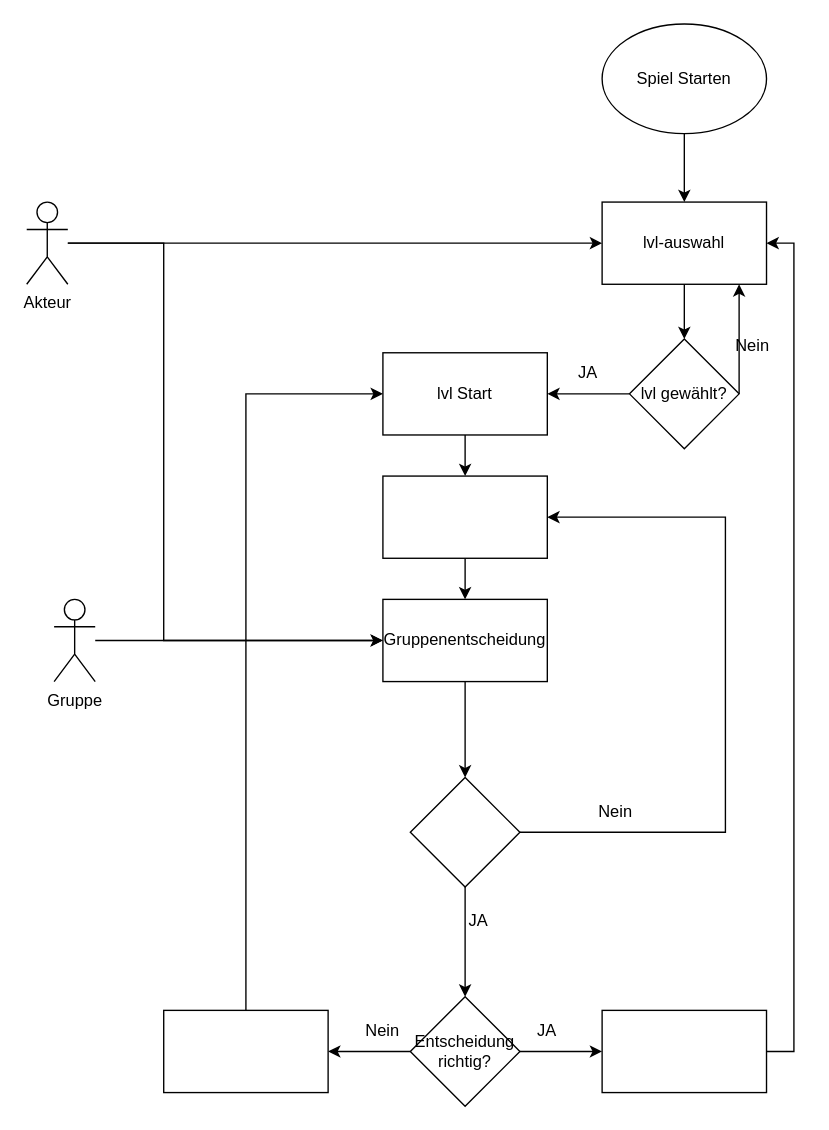
Some shapes in this 829 by 1130 pixel diagram are drawn without their labels. The shapes that lost their labels are listed below. From the top down, each one's box as (x1, y1, x2, y2) in pixels, then its label:
(382, 475, 547, 558): Nachricht anzeigen
(409, 776, 520, 887): Chat vorbei
(162, 1009, 328, 1093): lvl nicht abgeschlossen
(601, 1009, 767, 1093): lvl abgeschlossen
